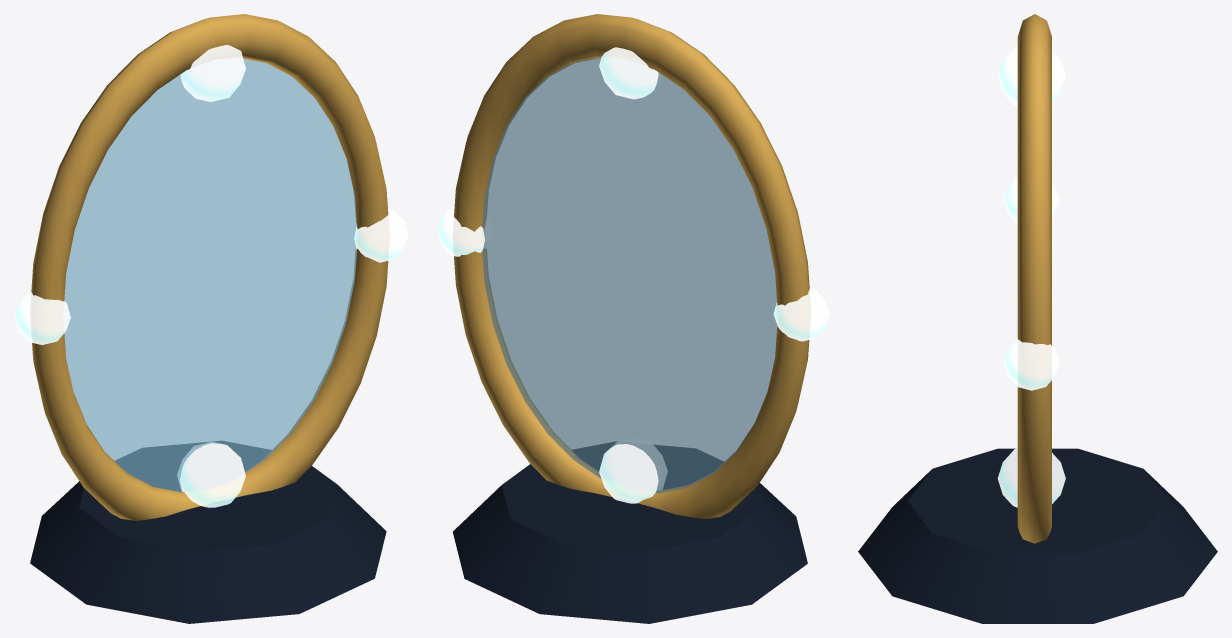
The model's file is mirror.glb.
3 views of the same model, side by side, from view 1: azimuth 30°, elevation 25°; view 2: azimuth 150°, elevation 25°; view 3: azimuth 270°, elevation 25° (orthographic).
Parts seen in each view (by area): view 1: body; view 2: body; view 3: body.
Boxes of the visible parts, x1,y1,x2,y2 form: body: [14, 14, 408, 623]; body: [437, 14, 829, 623]; body: [858, 14, 1217, 623].
Size of the model in its own units: 1.42 by 1.86 by 1.16.
